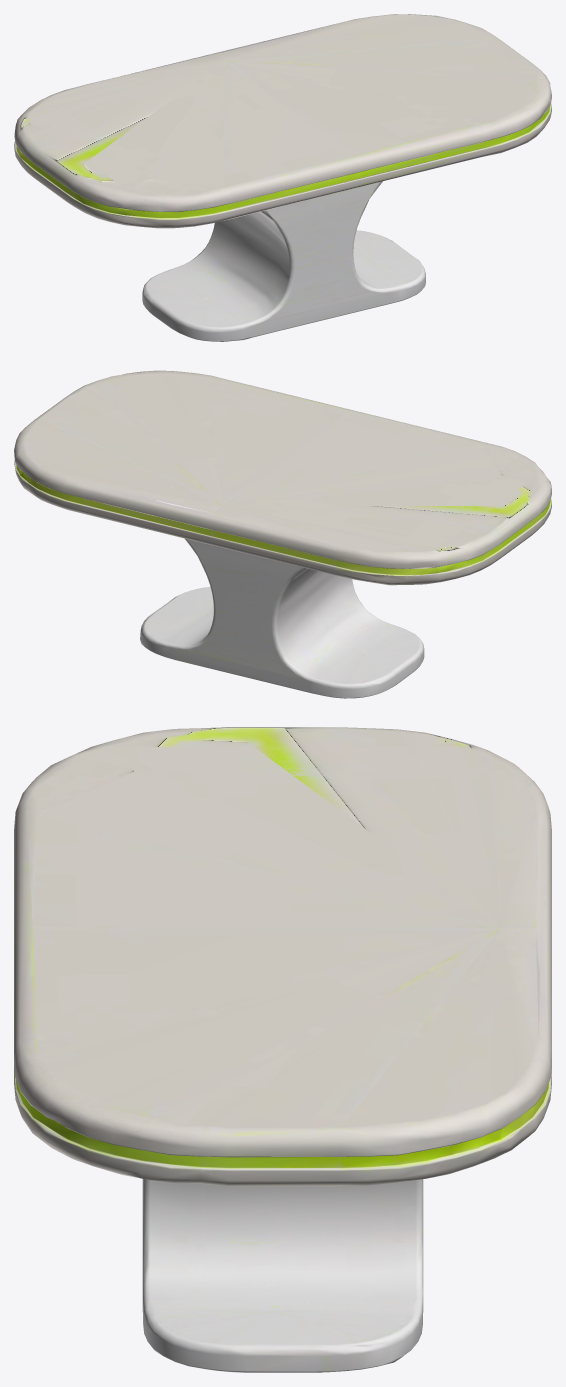
File: table.glb
3 renders of one model, top to bottom at view 1: azimuth 30°, elevation 25°; view 2: azimuth 150°, elevation 25°; view 3: azimuth 270°, elevation 25°, orthographic. The views are drawn at different scales.
Size of the model in its own units: 0.9507 by 0.3628 by 0.523.
1 material, 1 textured.
